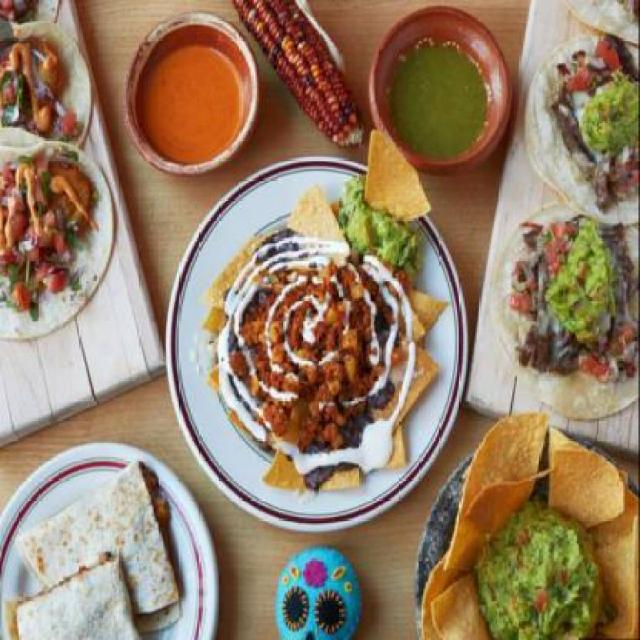chicken quesadilla: (1, 444, 179, 639)
guacamole: (476, 511, 602, 638), (548, 218, 612, 349), (340, 194, 418, 274)
nachos: (202, 125, 456, 510), (415, 410, 639, 639)
